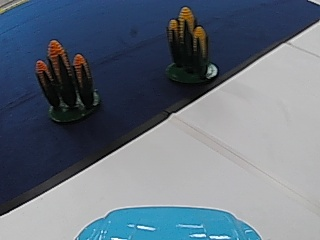corn: (34, 36, 100, 122), (164, 3, 216, 84)
